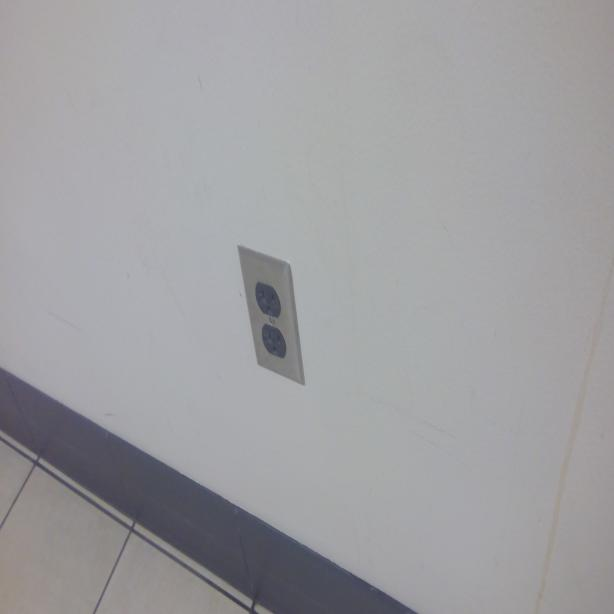typeb: (257, 281, 280, 317), (261, 327, 286, 360)
